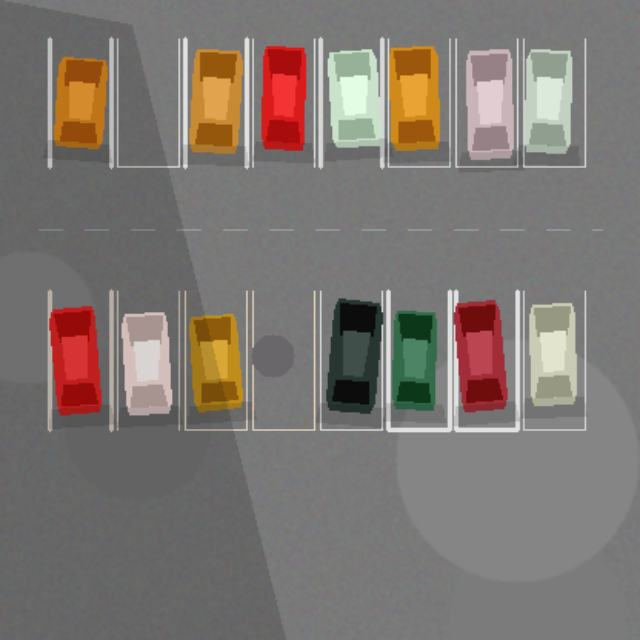space-empty: (252, 291, 314, 429), (117, 38, 178, 166)
space-occupied: (49, 291, 111, 429), (320, 291, 382, 429), (455, 291, 517, 429), (523, 291, 585, 429), (117, 291, 178, 429), (185, 291, 246, 429), (388, 291, 449, 429), (49, 38, 111, 166), (252, 38, 314, 166), (320, 38, 382, 166), (455, 38, 517, 166), (523, 38, 585, 166), (185, 38, 246, 166), (388, 38, 449, 166)
